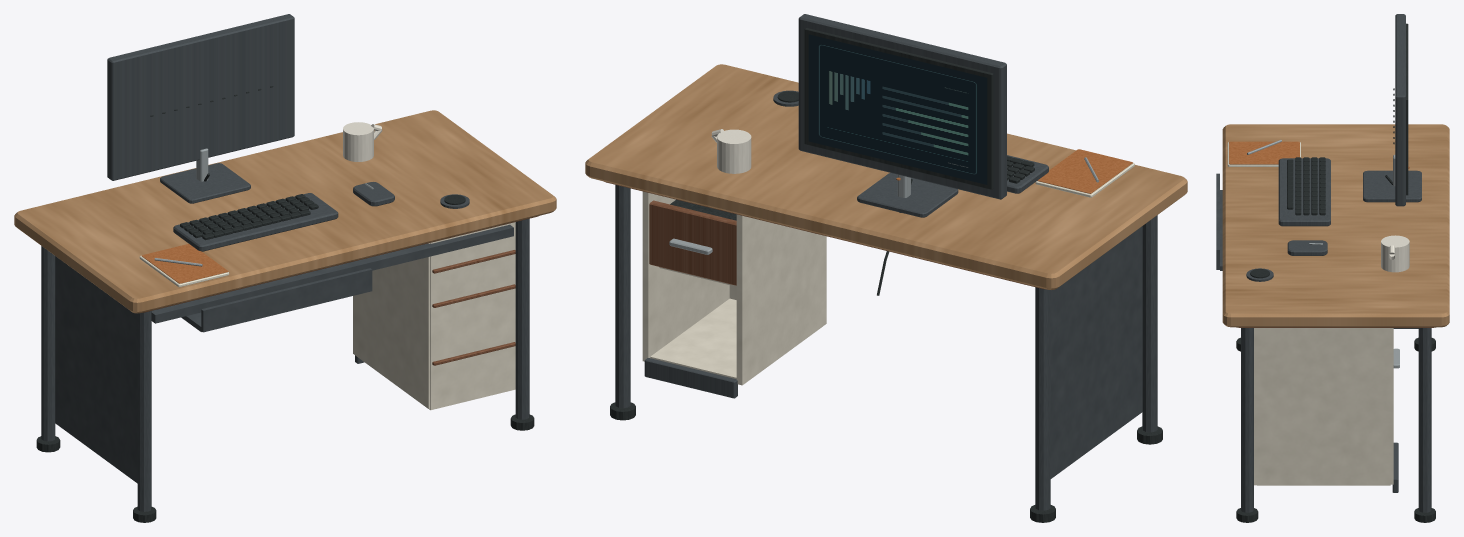
3 views of the same model, side by side, from view 1: azimuth 30°, elevation 25°; view 2: azimuth 150°, elevation 25°; view 3: azimuth 270°, elevation 25° (orthographic). The views are drawn at different scales.
Visible parts, largest first — view 1: VIS_Office_Desk_Base_powder_steel, VIS_Office_Desk_Base_oak, VIS_Office_Desk_Base_laminate, VIS_Office_Desk_Base_rubber, VIS_Office_Desk_Base_accent, VIS_Office_Desk_Base_walnut, VIS_Office_Desk_Base_ceramic; view 2: VIS_Office_Desk_Base_oak, VIS_Office_Desk_Base_powder_steel, VIS_Office_Desk_Base_laminate, VIS_Office_Desk_Base_ui, VIS_Office_Desk_Base_walnut, VIS_Office_Desk_Base_rubber, VIS_Office_Desk_Base_accent, VIS_Office_Desk_Base_ceramic, VIS_Office_Desk_Base_aluminium; view 3: VIS_Office_Desk_Base_oak, VIS_Office_Desk_Base_laminate, VIS_Office_Desk_Base_powder_steel, VIS_Office_Desk_Base_rubber, VIS_Office_Desk_Base_accent, VIS_Office_Desk_Base_ceramic, VIS_Office_Desk_Base_aluminium.
Boxes of the visible parts, x1=… form: VIS_Office_Desk_Base_powder_steel: x1=41, y1=14, x2=529, y2=511; VIS_Office_Desk_Base_oak: x1=14, y1=110, x2=556, y2=313; VIS_Office_Desk_Base_laminate: x1=353, y1=222, x2=515, y2=410; VIS_Office_Desk_Base_rubber: x1=36, y1=86, x2=534, y2=522; VIS_Office_Desk_Base_accent: x1=141, y1=244, x2=228, y2=283; VIS_Office_Desk_Base_walnut: x1=142, y1=216, x2=538, y2=365; VIS_Office_Desk_Base_ceramic: x1=343, y1=122, x2=382, y2=161; VIS_Office_Desk_Base_oak: x1=585, y1=64, x2=1187, y2=289; VIS_Office_Desk_Base_powder_steel: x1=615, y1=14, x2=1157, y2=510; VIS_Office_Desk_Base_laminate: x1=642, y1=191, x2=826, y2=385; VIS_Office_Desk_Base_ui: x1=808, y1=34, x2=987, y2=184; VIS_Office_Desk_Base_walnut: x1=604, y1=181, x2=1046, y2=289; VIS_Office_Desk_Base_rubber: x1=610, y1=28, x2=1162, y2=522; VIS_Office_Desk_Base_accent: x1=896, y1=149, x2=1132, y2=193; VIS_Office_Desk_Base_ceramic: x1=711, y1=129, x2=751, y2=173; VIS_Office_Desk_Base_aluminium: x1=669, y1=157, x2=1098, y2=254; VIS_Office_Desk_Base_oak: x1=1222, y1=124, x2=1449, y2=327; VIS_Office_Desk_Base_laminate: x1=1254, y1=328, x2=1393, y2=485; VIS_Office_Desk_Base_powder_steel: x1=1216, y1=14, x2=1431, y2=512; VIS_Office_Desk_Base_rubber: x1=1236, y1=23, x2=1435, y2=522; VIS_Office_Desk_Base_accent: x1=1229, y1=141, x2=1409, y2=168; VIS_Office_Desk_Base_ceramic: x1=1381, y1=235, x2=1409, y2=272; VIS_Office_Desk_Base_aluminium: x1=1247, y1=139, x2=1399, y2=368.
Bounding box in the file's own units: 1.46 × 1.26 × 0.751.
11 materials, 11 textured.
